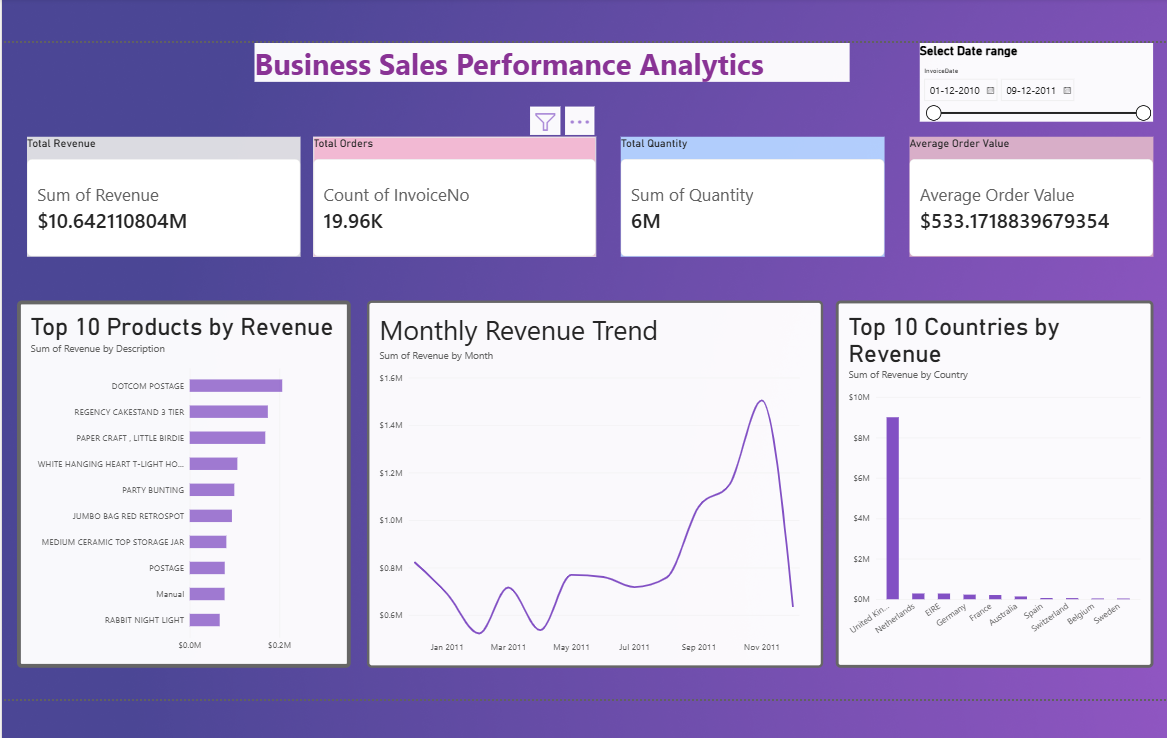

This screenshot's page, from the dashboard's own definition file:
{"tool":"powerbi","page":{"name":"Page 1","canvas":[1920,1080],"ordinal":0},"visuals":[{"type":"cardVisual","title":"Total Revenue","fields":{"Data":["Sum(clean_sales_data.Revenue)"]},"box":[41.2,154.4,450.8,197.6],"z":0},{"type":"cardVisual","title":"Total Orders","fields":{"Data":["Count(clean_sales_data.InvoiceNo)"]},"box":[512.5,154.4,465.2,197.6],"z":1000},{"type":"cardVisual","title":"Total Quantity","fields":{"Data":["Sum(clean_sales_data.Quantity)"]},"box":[1018.9,154.4,434.3,197.6],"z":2000},{"type":"cardVisual","title":"Average Order Value","fields":{"Data":["clean_sales_data.Average Order Value"]},"box":[1494.3,154.4,401.4,197.6],"z":3000},{"type":"lineChart","title":"Monthly Revenue Trend","fields":{"Category":["clean_sales_data.Month"],"Y":["Sum(clean_sales_data.Revenue)"]},"box":[601,424,751.3,605.1],"z":4000},{"type":"clusteredBarChart","title":"Top 10 Products by Revenue","fields":{"Category":["clean_sales_data.Description"],"Y":["Sum(clean_sales_data.Revenue)"]},"box":[24.7,424,549.6,605.1],"z":5000},{"type":"clusteredColumnChart","title":"Top 10 Countries by Revenue","fields":{"Category":["clean_sales_data.Country"],"Y":["Sum(clean_sales_data.Revenue)"]},"box":[1372.9,424,522.8,605.1],"z":6000},{"type":"textbox","box":[415.8,0,979.8,63.8],"z":7000},{"type":"slicer","title":"Select Date range","fields":{"Values":["clean_sales_data.InvoiceDate"]},"box":[1510.8,0,384.9,129.7],"z":7001}]}

Visuals, with their boxes in screenshot pixels (x1, y1, x2, y2):
"Total Revenue" cardVisual: region(31, 138, 301, 257)
"Total Orders" cardVisual: region(313, 138, 592, 257)
"Total Quantity" cardVisual: region(617, 138, 877, 257)
"Average Order Value" cardVisual: region(902, 138, 1142, 257)
"Monthly Revenue Trend" lineChart: region(366, 300, 817, 662)
"Top 10 Products by Revenue" clusteredBarChart: region(21, 300, 350, 662)
"Top 10 Countries by Revenue" clusteredColumnChart: region(829, 300, 1142, 662)
textbox: region(255, 46, 843, 84)
"Select Date range" slicer: region(912, 46, 1142, 123)
